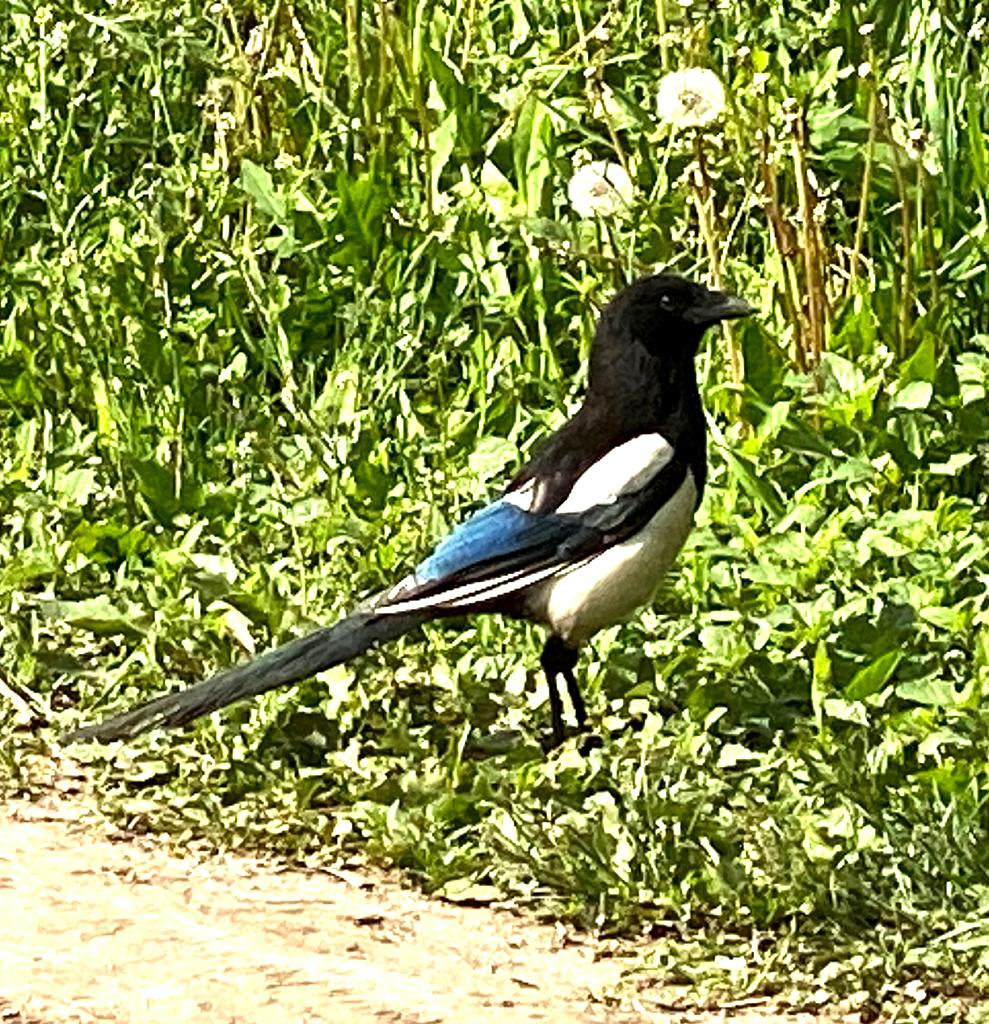PicaPica: (56, 273, 761, 746)
